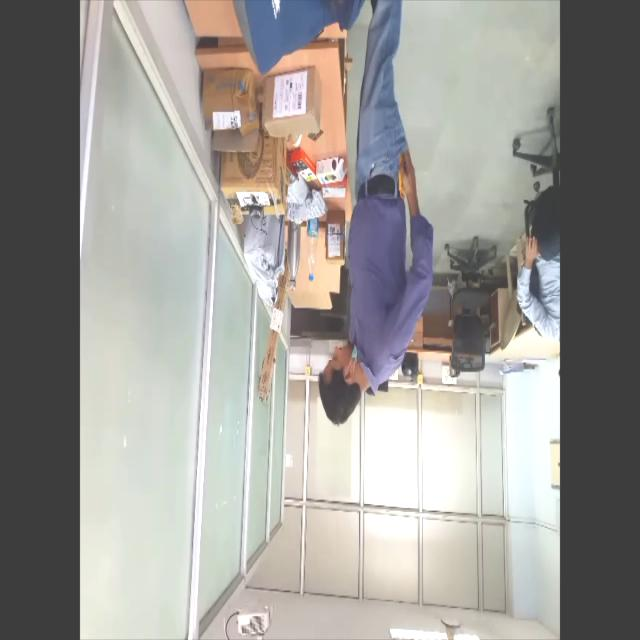shoplifting: (319, 0, 437, 431)
